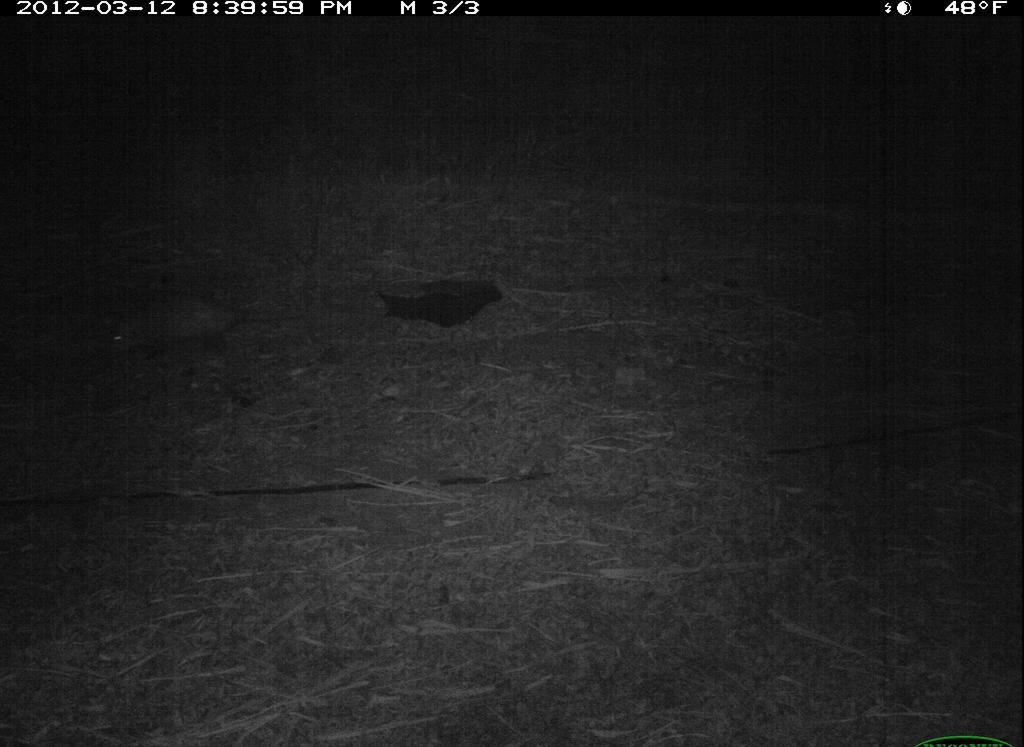opossum: (94, 280, 268, 401)
